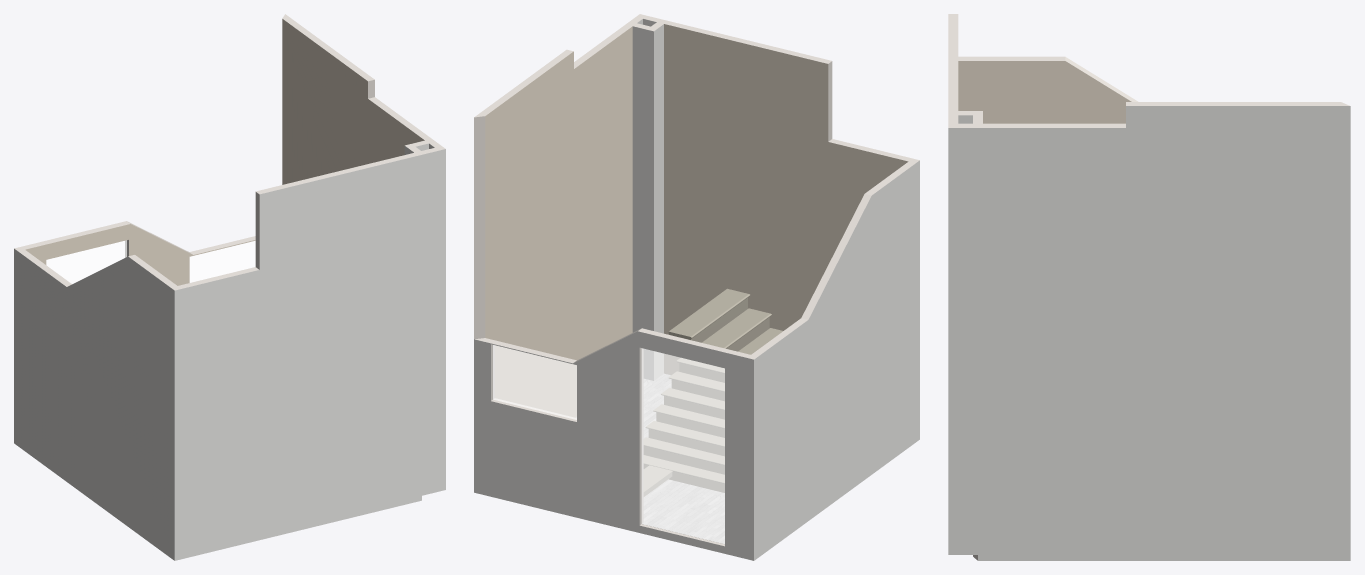
File: StairsSouth.glb
The picture shows the model from 3 angles, left to right: view 1: azimuth 30°, elevation 25°; view 2: azimuth 150°, elevation 25°; view 3: azimuth 270°, elevation 25°; orthographic projection. The views are drawn at different scales.
Parts seen in each view (by area): view 1: wall_6, wall_1, wall_16, wall_0, wall_12, door_0, door_2, window_0, window_2, wall_21, wall_17, wall_13 (+1 smaller); view 2: wall_20, wall_16, wall_1, wall_2, door_0, door_2, stairs70, wall_18, floor_Other, window_0, window_2, stairs31 (+6 smaller); view 3: wall_4, wall_7, wall_10, wall_17, wall_21, wall_11.
Part boxes in pixels (x1=…): wall_6: x1=174, y1=155, x2=421, y2=560; wall_1: x1=14, y1=248, x2=174, y2=560; wall_16: x1=282, y1=19, x2=424, y2=184; wall_0: x1=422, y1=149, x2=445, y2=495; wall_12: x1=25, y1=224, x2=255, y2=285; door_0: x1=46, y1=240, x2=126, y2=283; door_2: x1=46, y1=240, x2=126, y2=283; window_0: x1=190, y1=241, x2=255, y2=282; window_2: x1=190, y1=241, x2=255, y2=282; wall_21: x1=175, y1=152, x2=421, y2=290; wall_17: x1=282, y1=14, x2=433, y2=140; wall_13: x1=14, y1=221, x2=255, y2=257; wall_20: x1=664, y1=24, x2=908, y2=374; wall_16: x1=485, y1=26, x2=632, y2=417; wall_1: x1=754, y1=160, x2=919, y2=560; wall_2: x1=474, y1=331, x2=753, y2=560; door_0: x1=642, y1=348, x2=724, y2=543; door_2: x1=642, y1=348, x2=724, y2=543; stairs70: x1=644, y1=358, x2=724, y2=492; wall_18: x1=632, y1=26, x2=653, y2=380; floor_Other: x1=576, y1=374, x2=724, y2=544; window_0: x1=493, y1=345, x2=576, y2=419; window_2: x1=493, y1=345, x2=576, y2=419; stairs31: x1=668, y1=288, x2=782, y2=354; wall_4: x1=978, y1=106, x2=1350, y2=560; wall_7: x1=948, y1=128, x2=977, y2=554; wall_10: x1=958, y1=61, x2=1131, y2=123; wall_17: x1=978, y1=102, x2=1349, y2=127; wall_21: x1=948, y1=14, x2=958, y2=112; wall_11: x1=958, y1=56, x2=1138, y2=101.
Size of the model in its own units: 3.91 by 5.01 by 4.01.
